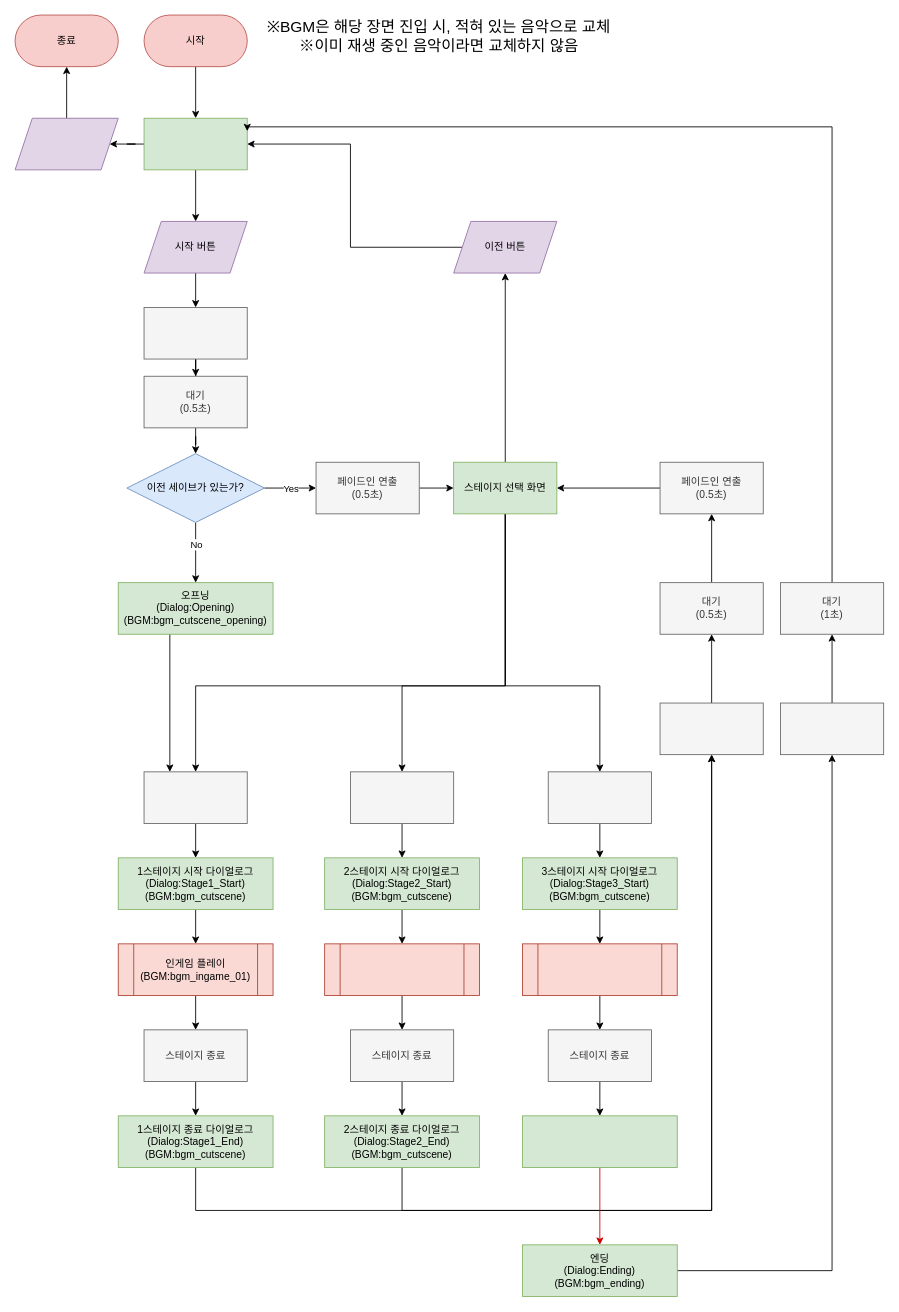
Image size: 899x1312. Some labels were removed from this diagram. Each missing label, with the centre of its shape:
"1스테이지 진입" goes at pixel 195 797.
"2스테이지 진입" goes at pixel 402 797.
"3스테이지 종료 다이얼로그 (Dialog:Stage3_End) (BGM:bgm_cutscene)" goes at pixel 599 1141.
"3스테이지 진입" goes at pixel 599 797.
"인게임 플레이 (BGM:bgm_ingame_02)" goes at pixel 401 969.
"인게임 플레이 (BGM:bgm_ingame_03)" goes at pixel 599 969.
"종료 버튼" goes at pixel 66 143.
"타이틀 화면 (BGM:bgm_title)" goes at pixel 195 143.
"페이드아웃 연출 (0.5초)" goes at pixel 711 728.
"페이드아웃 연출 (1초)" goes at pixel 195 333.
"페이드아웃 연출 (4초)" goes at pixel 832 728.
